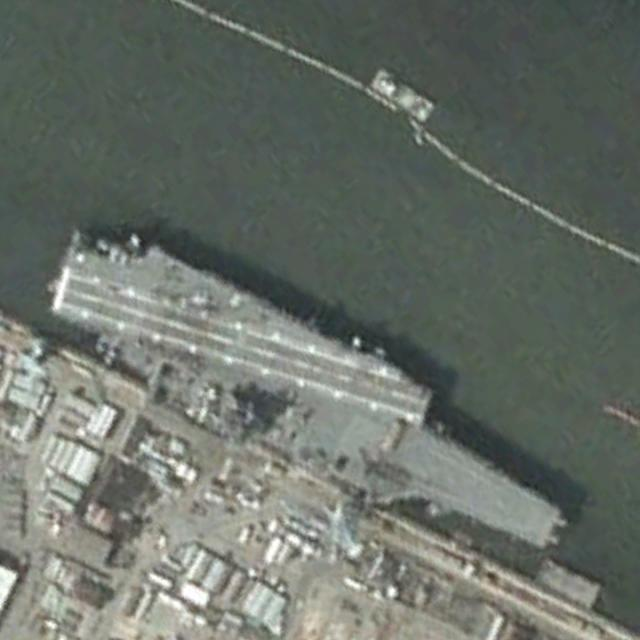Aircraft Carrier: (23, 207, 596, 587)
